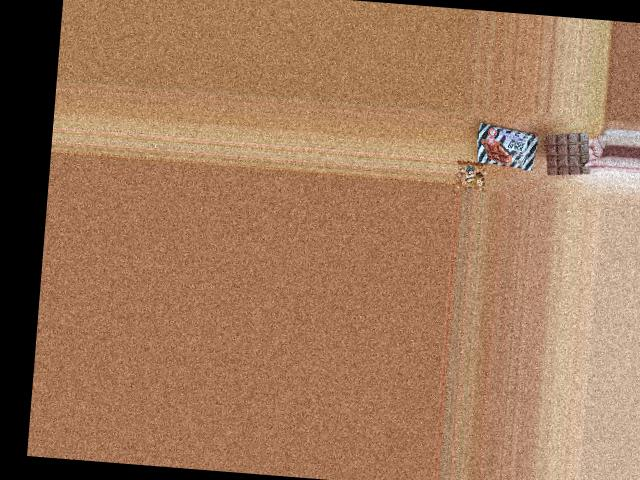chocolate: (472, 123, 541, 169)
